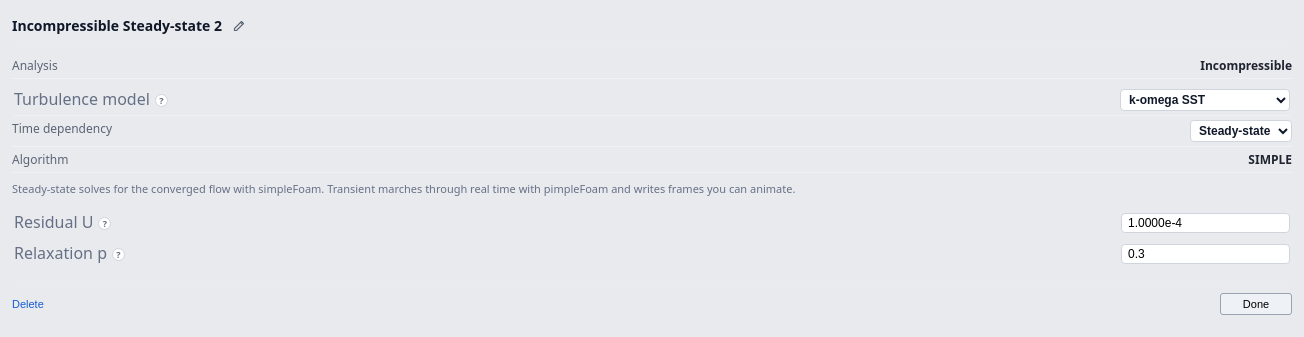
Test: SimulationDefaults (study panel) › switches time dependency through the runtime; a transient study shows its own numerics (RH3) and says where the time step lives
Select "Transient" in the dropdown named "Time dependency" at (1241, 131), box top-left (1190, 120), bottom-right (1292, 142)
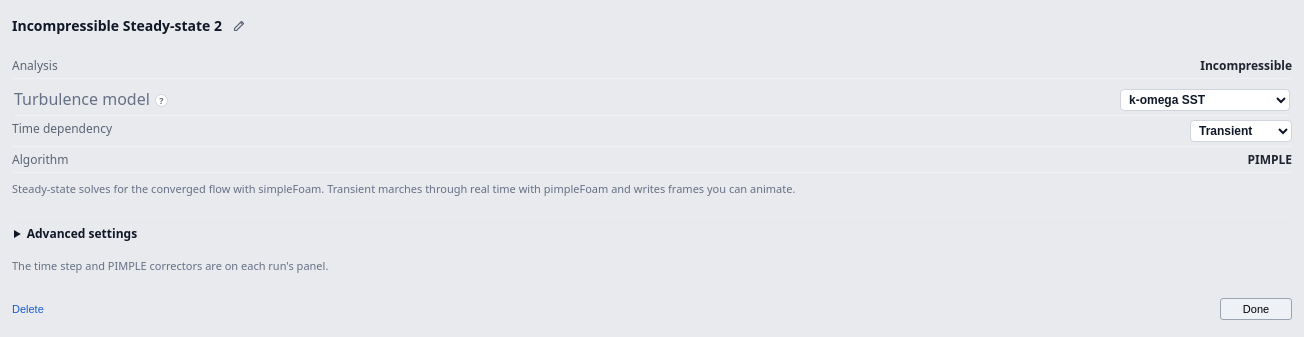
Check: the text "PIMPLE" is shown, box top-left (1247, 151), bottom-right (1292, 168)
Check: the text "Residual U" is gone
Check: the text "The time step and PIMPLE correctors are on each run's panel." is shown, box top-left (12, 258), bottom-right (328, 273)
